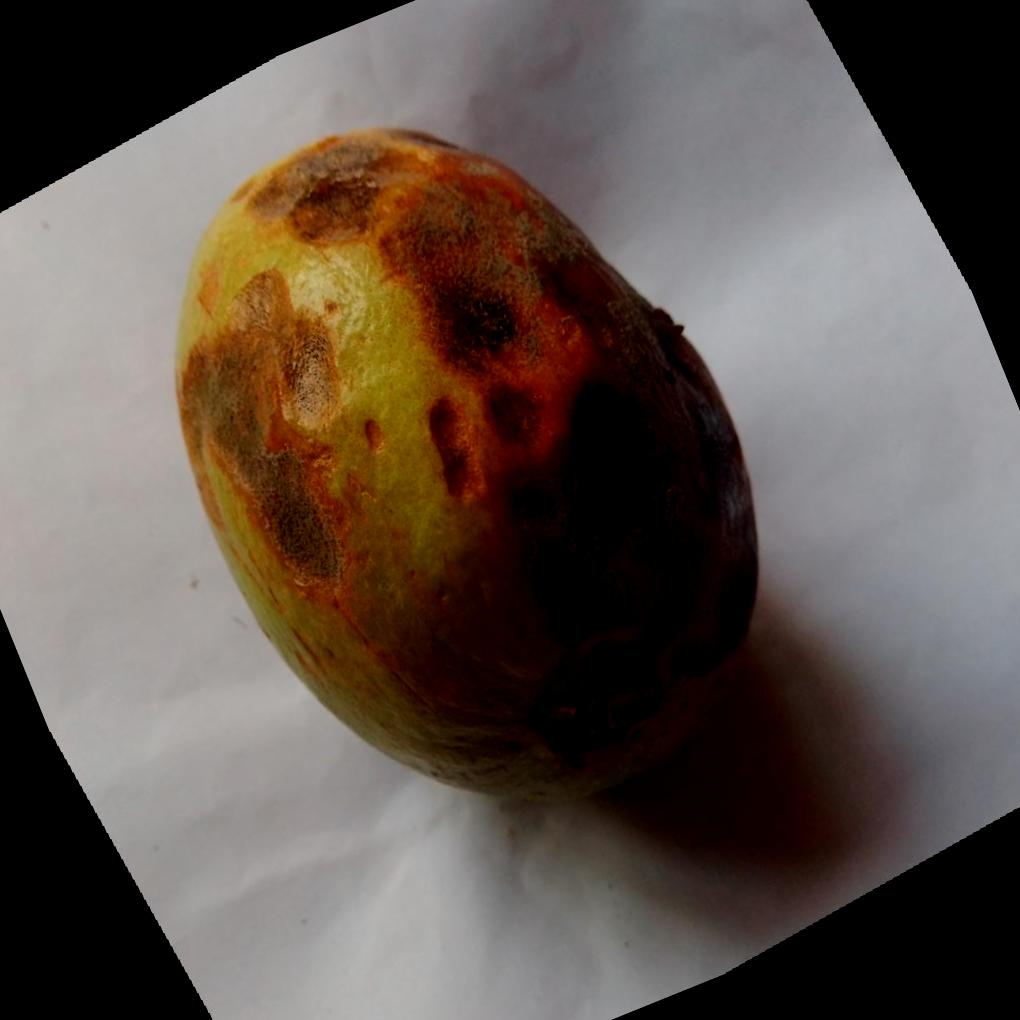FreshOrange: (175, 123, 765, 811)
